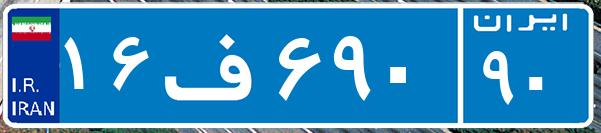0: (385, 28, 445, 110), (525, 38, 570, 115)
1: (57, 26, 110, 107)
6: (273, 28, 330, 110), (110, 28, 158, 105)
9: (330, 28, 385, 110), (475, 38, 525, 113)
ف: (158, 15, 273, 115)
